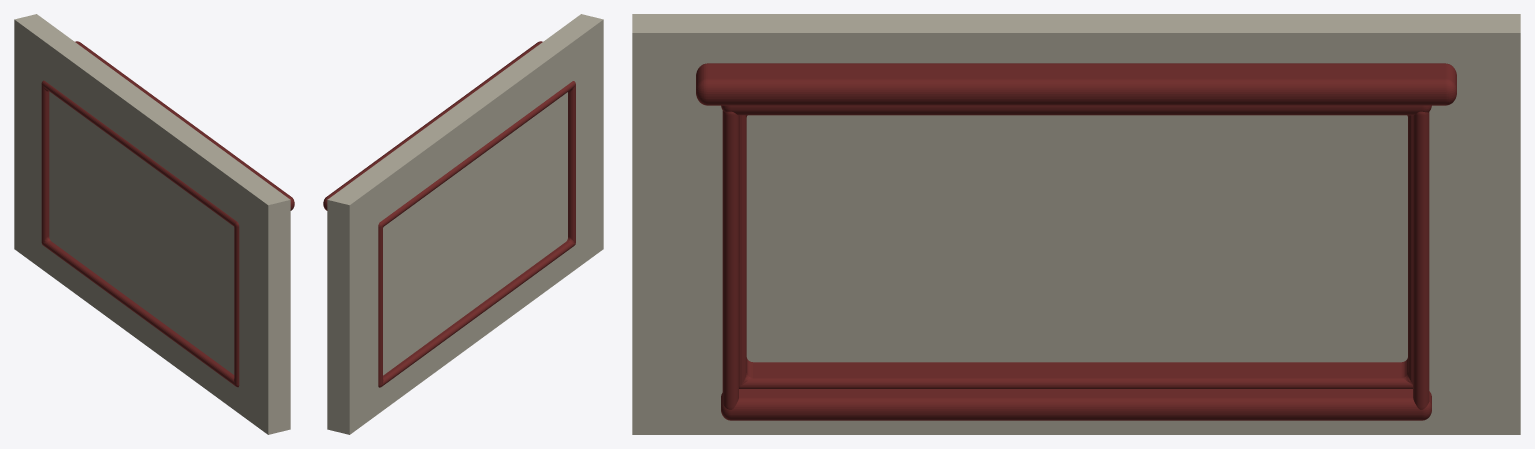
File: wall_bigwindow_2x1.fbx
3 renders of one model, left to right at view 1: azimuth 30°, elevation 25°; view 2: azimuth 150°, elevation 25°; view 3: azimuth 270°, elevation 25°, orthographic. The views are drawn at different scales.
Parts seen in each view (by area): view 1: wall_bigwindow_2x1.001; view 2: wall_bigwindow_2x1.001; view 3: wall_bigwindow_2x1.001.
Part boxes in pixels (left/top/right/bottom): wall_bigwindow_2x1.001: left=14, top=14, right=294, bottom=434; wall_bigwindow_2x1.001: left=323, top=14, right=603, bottom=434; wall_bigwindow_2x1.001: left=632, top=14, right=1520, bottom=434.
Bounding box in the file's own units: 22.53 × 99.82 × 200.
